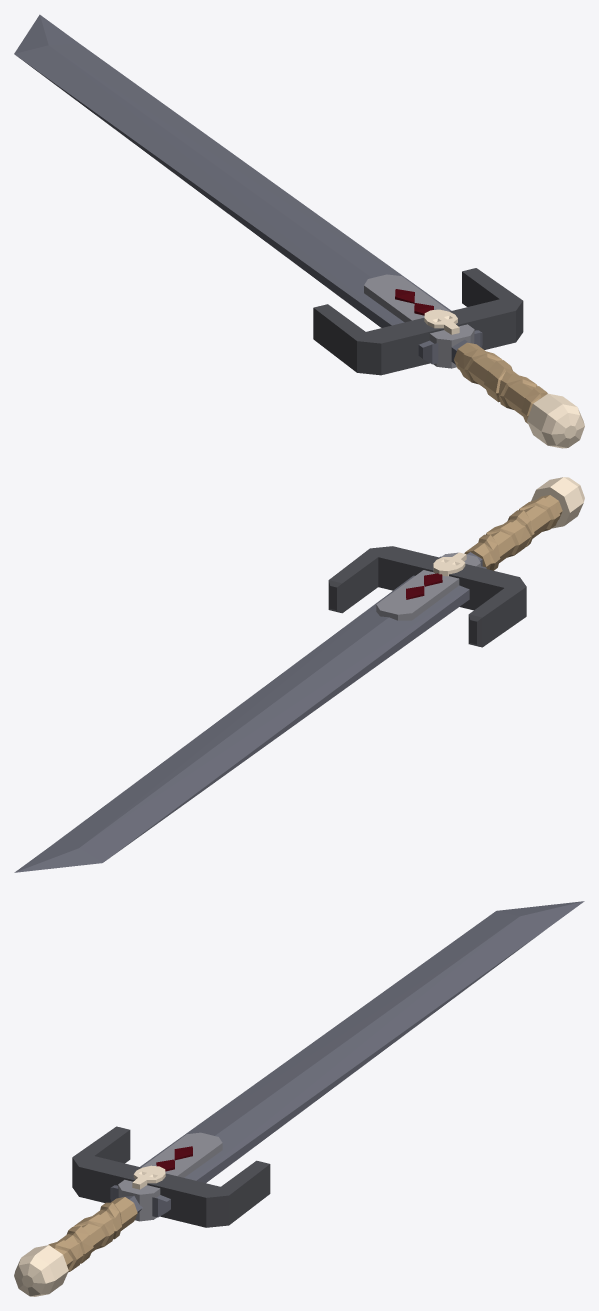
The model's file is sword_5.glb.
The picture shows the model from 3 angles, top to bottom: view 1: azimuth 30°, elevation 25°; view 2: azimuth 150°, elevation 25°; view 3: azimuth 330°, elevation 25°; orthographic projection. The views are drawn at different scales.
Visible parts, largest first — view 1: sword_5; view 2: sword_5; view 3: sword_5.
Part boxes in pixels (x1,y1,x2,y2): sword_5: (14, 14, 584, 448); sword_5: (14, 477, 584, 872); sword_5: (14, 901, 584, 1296).
Bounding box in the file's own units: 0.1398 × 0.0356 × 0.817.
1 material, 1 textured.
